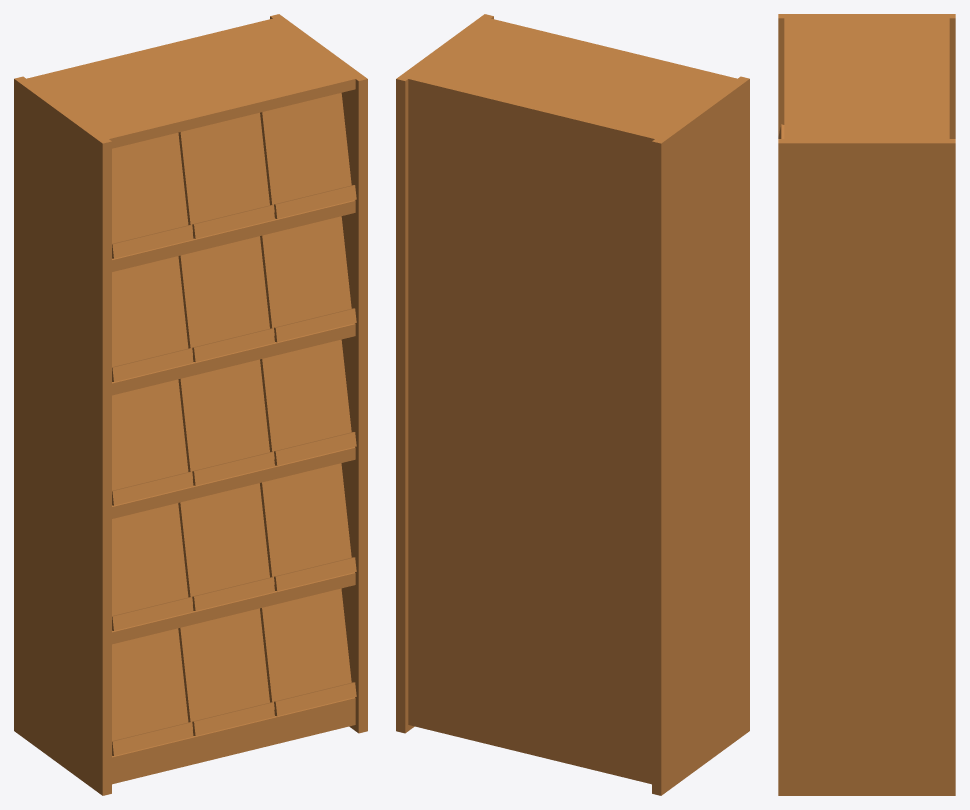
Rendered from magazine_bookself2.fbx.
3 views of the same model, side by side, from view 1: azimuth 30°, elevation 25°; view 2: azimuth 150°, elevation 25°; view 3: azimuth 270°, elevation 25° (orthographic).
Visible parts, largest first — view 1: magazine_bookself2; view 2: magazine_bookself2; view 3: magazine_bookself2.
Part boxes in pixels (x1=…): magazine_bookself2: x1=14, y1=14, x2=367, y2=795; magazine_bookself2: x1=396, y1=14, x2=749, y2=795; magazine_bookself2: x1=778, y1=14, x2=955, y2=795.
Bounding box in the file's own units: 0.00958 × 0.0225 × 0.00555.
Materials: 1 (1 with a texture image).
